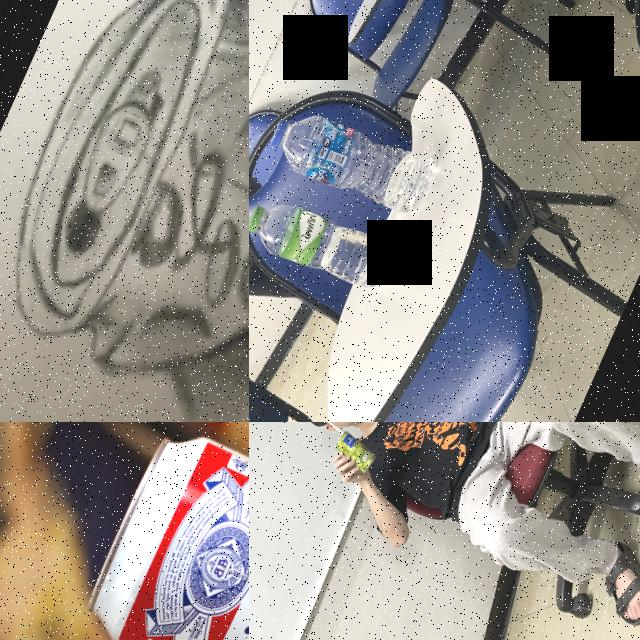bottle: (262, 96, 440, 226), (249, 185, 397, 299)
can: (73, 422, 249, 640), (329, 428, 382, 476)
